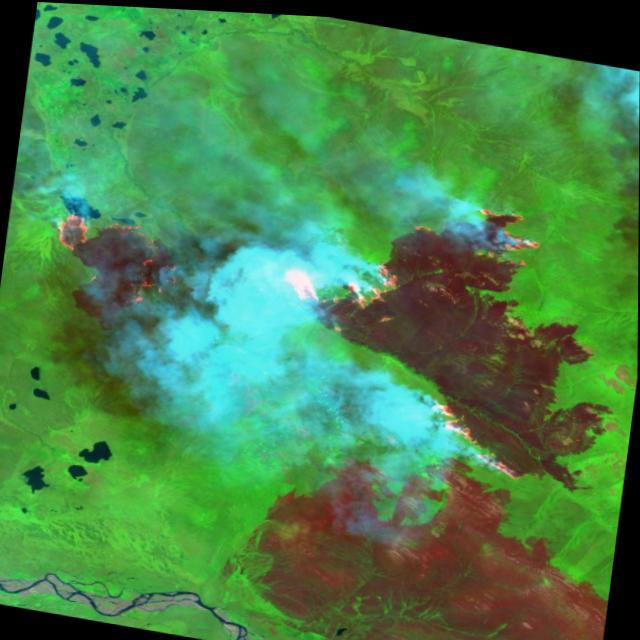fire: (253, 162, 566, 479), (42, 200, 186, 328)
